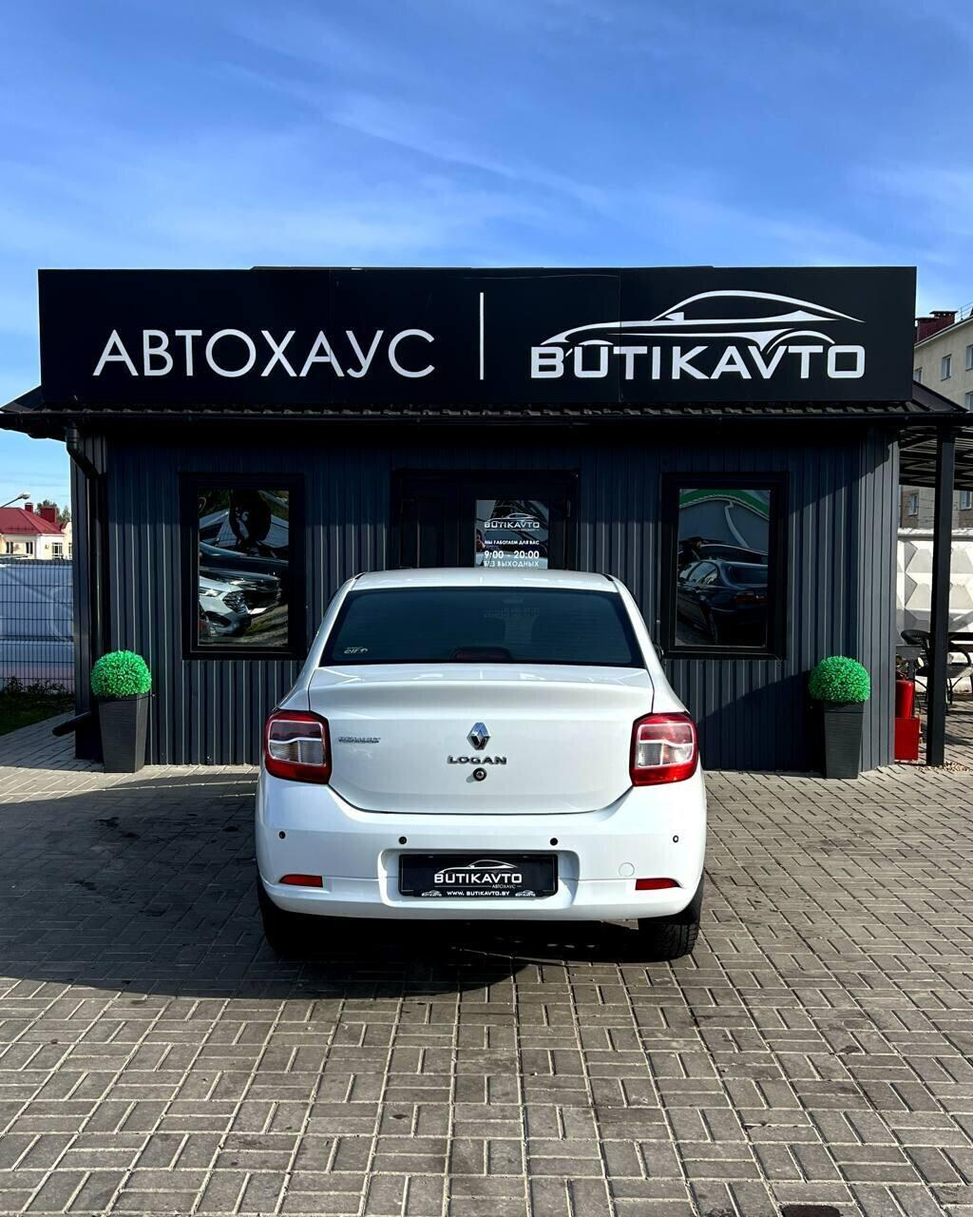Logan_2013-2018: (258, 561, 717, 976)
